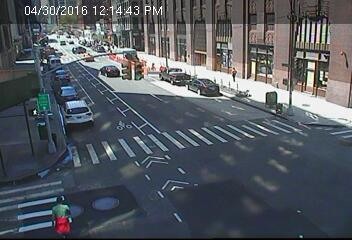neg: (3, 114, 44, 168), (116, 85, 144, 122), (290, 108, 316, 142), (204, 78, 229, 112), (61, 95, 78, 117), (50, 24, 66, 46), (216, 5, 230, 24), (128, 7, 140, 24), (105, 12, 114, 25), (172, 56, 180, 67), (262, 20, 269, 29), (180, 32, 187, 40), (160, 41, 166, 49), (149, 50, 155, 58), (140, 51, 146, 58)
